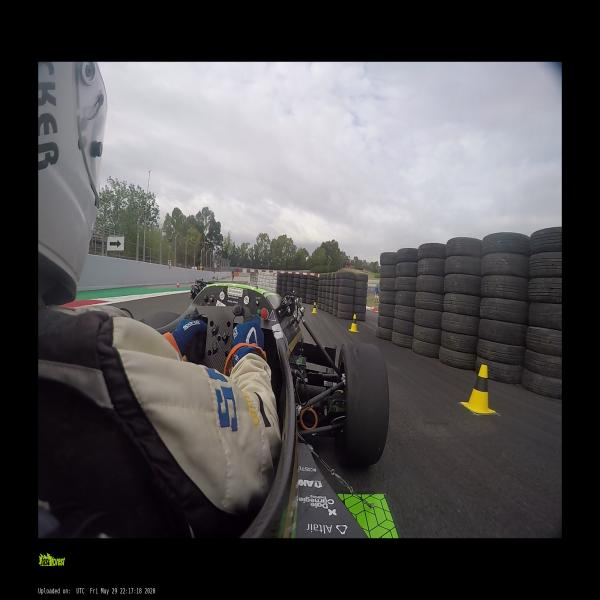orange_cone: (176, 280, 180, 288), (371, 306, 375, 312)
yellow_cone: (460, 363, 495, 414), (348, 313, 359, 332), (311, 302, 317, 314)
